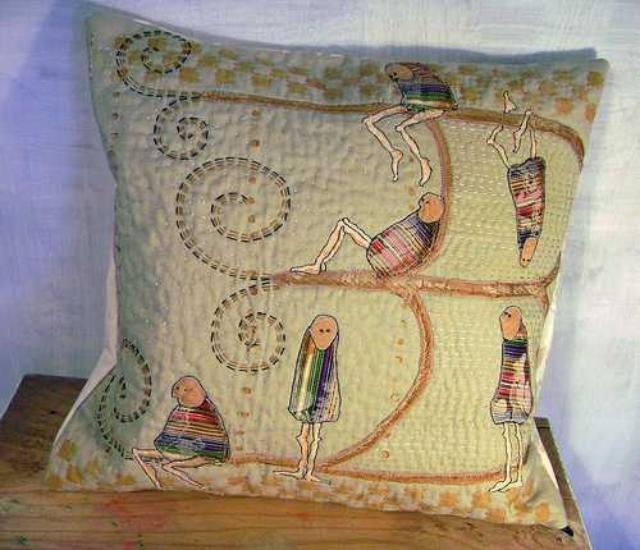pillow: (40, 6, 608, 532)
